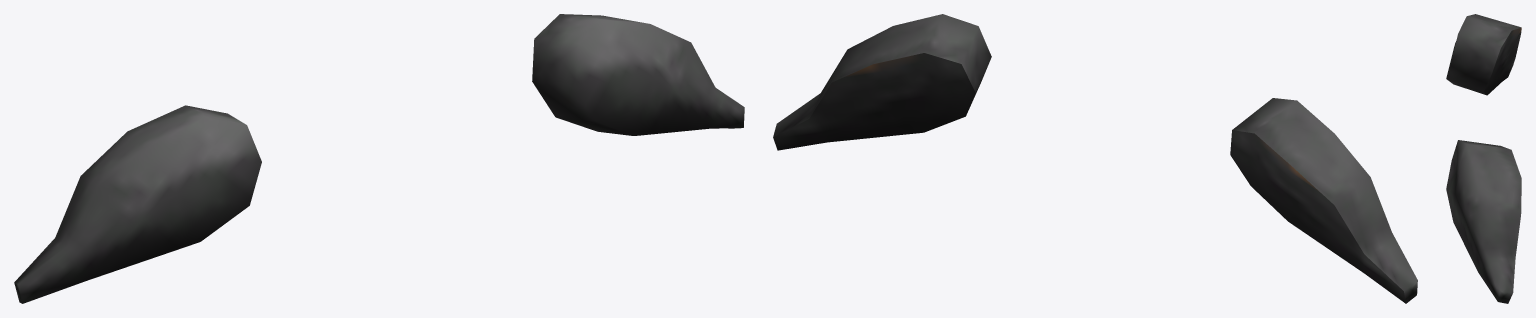
The model's file is Homeworld_Ani_Exterior_Common_Decoration_Prop_WoodAranaraEyes_01_Vo.fbx.
3 views of the same model, side by side, from view 1: azimuth 30°, elevation 25°; view 2: azimuth 150°, elevation 25°; view 3: azimuth 270°, elevation 25° (orthographic). The views are drawn at different scales.
Parts seen in each view (by area): view 1: Homeworld_Ani_Exterior_Common_Decoration_Prop_WoodAranaraEye; view 2: Homeworld_Ani_Exterior_Common_Decoration_Prop_WoodAranaraEye; view 3: Homeworld_Ani_Exterior_Common_Decoration_Prop_WoodAranaraEye.
Part boxes in pixels (x1,y1,x2,y2): Homeworld_Ani_Exterior_Common_Decoration_Prop_WoodAranaraEye: [14, 14, 744, 303]; Homeworld_Ani_Exterior_Common_Decoration_Prop_WoodAranaraEye: [773, 14, 1417, 303]; Homeworld_Ani_Exterior_Common_Decoration_Prop_WoodAranaraEye: [1446, 14, 1521, 303].
Size of the model in its own units: 0.2699 by 0.0601 by 0.0373.
